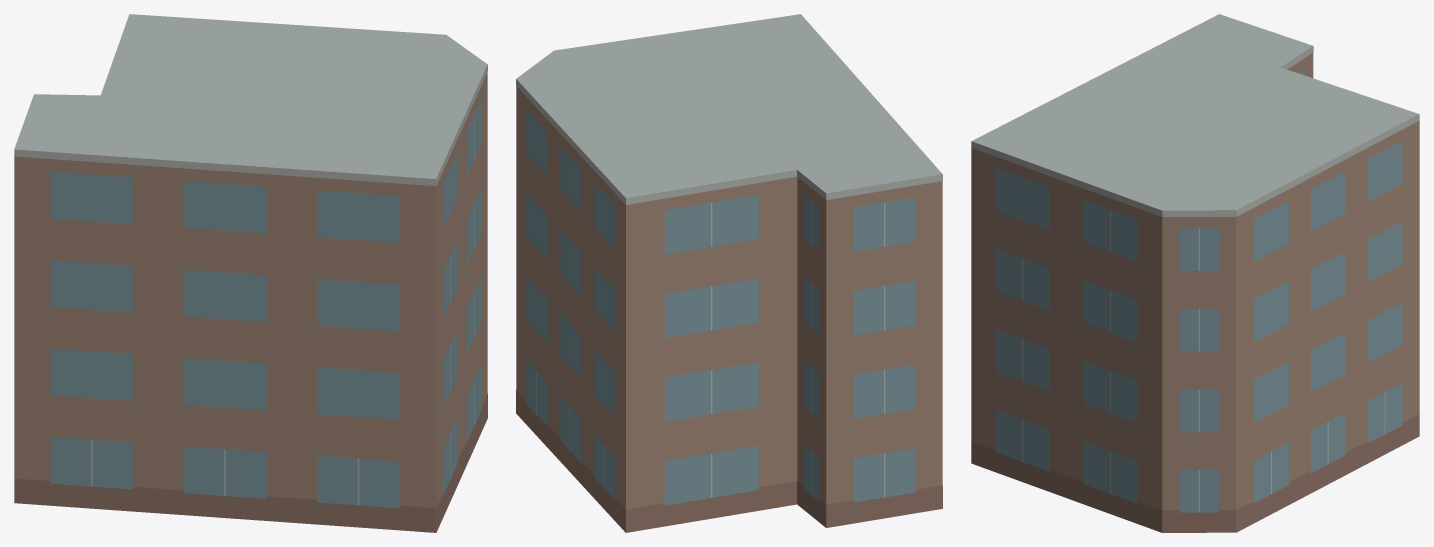
File: survey-upis-32924523.glb
3 views of the same model, side by side, from view 1: azimuth 30°, elevation 25°; view 2: azimuth 150°, elevation 25°; view 3: azimuth 270°, elevation 25° (orthographic). The views are drawn at different scales.
Parts seen in each view (by area): view 1: survey-upis-32924523.tmp; view 2: survey-upis-32924523.tmp; view 3: survey-upis-32924523.tmp.
Boxes of the visible parts, x1=… form: survey-upis-32924523.tmp: x1=14, y1=14, x2=487, y2=532; survey-upis-32924523.tmp: x1=516, y1=14, x2=942, y2=532; survey-upis-32924523.tmp: x1=971, y1=14, x2=1419, y2=532.
Size of the model in its own units: 15.98 by 12.2 by 15.39.
